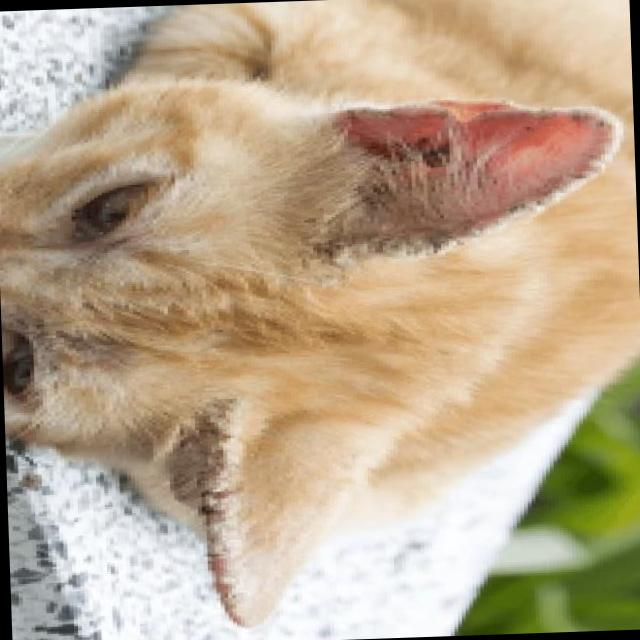Mange: (178, 397, 238, 596), (328, 219, 466, 259), (346, 94, 510, 121), (392, 133, 469, 170), (503, 187, 555, 229), (9, 314, 72, 346), (353, 176, 403, 213), (32, 357, 71, 387), (556, 107, 599, 127)
